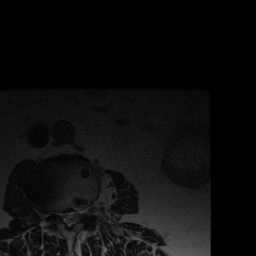CCS_stenosis: (66, 206, 72, 232)
LFS_normal: (79, 201, 86, 222)
LLS_normal: (72, 206, 79, 227)
RFS_severe_stenosis: (52, 204, 60, 222)
RLS_stenosis: (59, 205, 66, 229)
